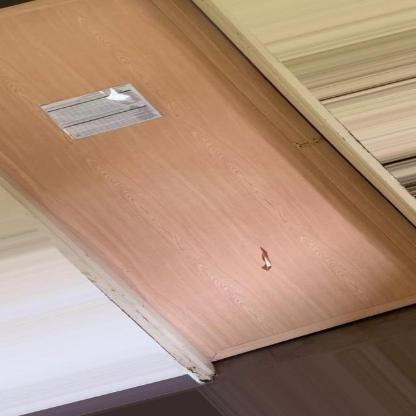door: (0, 0, 416, 393)
